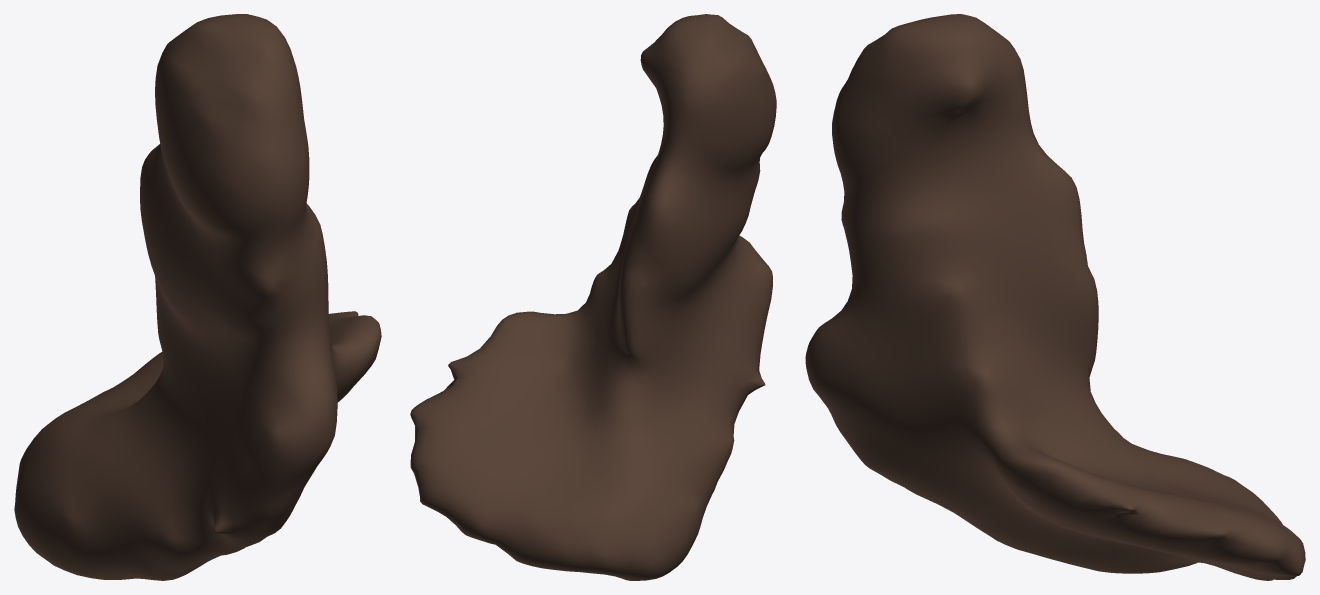
File: left adrenal gland.obj
The picture shows the model from 3 angles, left to right: view 1: azimuth 30°, elevation 25°; view 2: azimuth 150°, elevation 25°; view 3: azimuth 270°, elevation 25°; orthographic projection. The views are drawn at different scales.
Parts seen in each view (by area): view 1: grp1; view 2: grp1; view 3: grp1.
Part boxes in pixels (x1,y1,x2,y2): grp1: [14, 14, 381, 580]; grp1: [410, 14, 776, 580]; grp1: [805, 14, 1305, 580].
Bounding box in the file's own units: 18.33 × 34.24 × 27.31.
